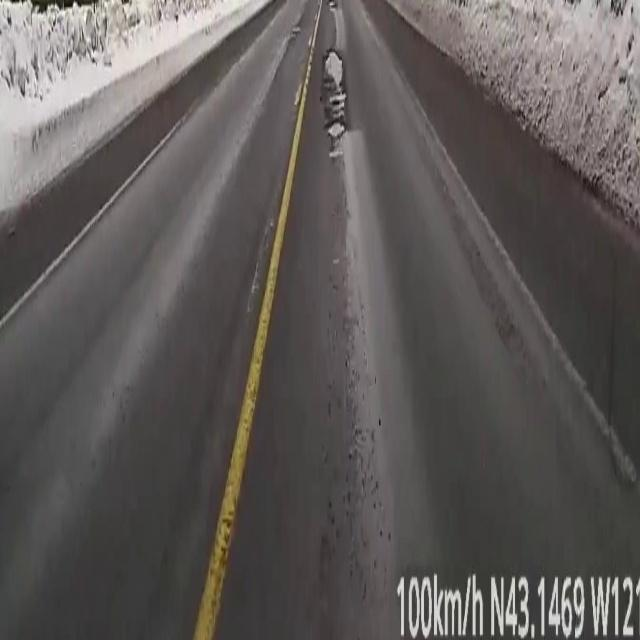pothole: (322, 50, 349, 165), (329, 0, 338, 16)
